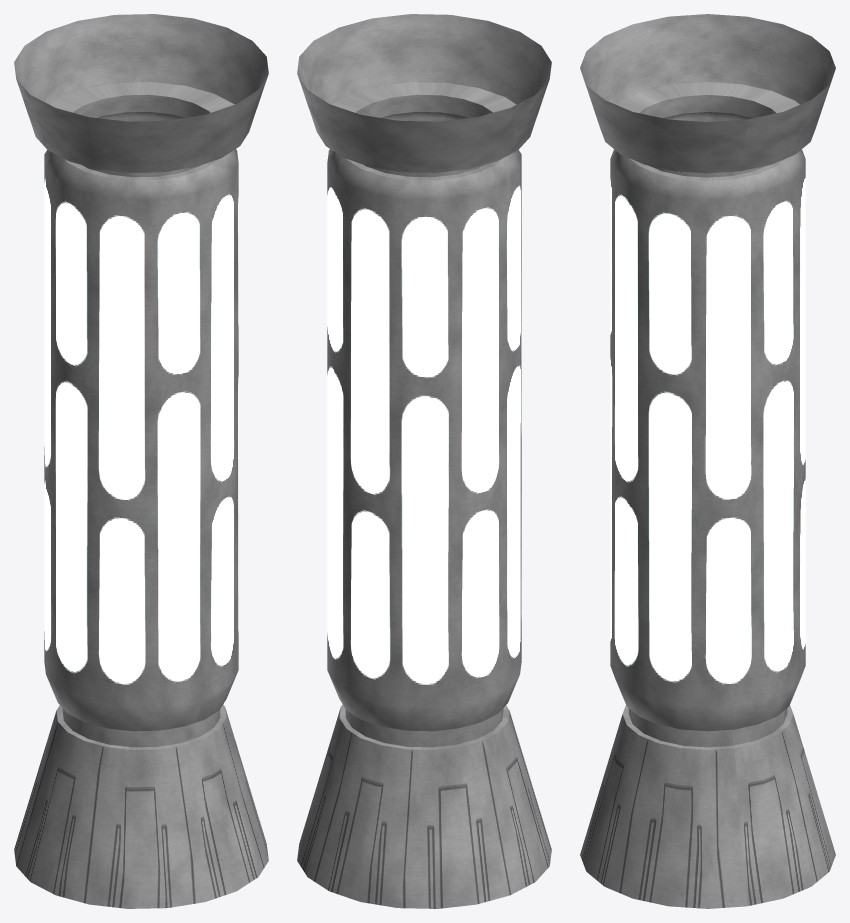
Rendered from RoundColumn.dae.
3 renders of one model, left to right at view 1: azimuth 30°, elevation 25°; view 2: azimuth 150°, elevation 25°; view 3: azimuth 270°, elevation 25°, orthographic.
Visible parts, largest first — view 1: Column_Round; view 2: Column_Round; view 3: Column_Round.
Boxes of the visible parts, bbox=[...] form: Column_Round: bbox=[14, 14, 268, 908]; Column_Round: bbox=[297, 14, 551, 908]; Column_Round: bbox=[580, 14, 835, 908].
Bounding box in the file's own units: 3.55 × 12.04 × 3.55.
